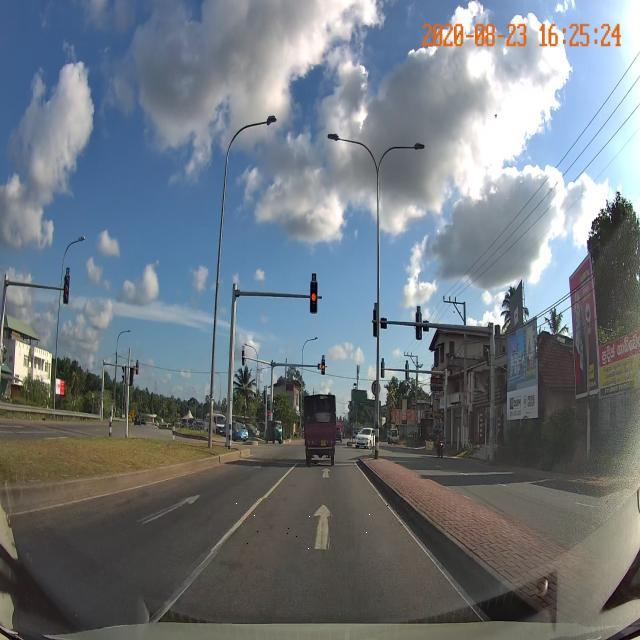forward: (212, 499, 429, 552)
